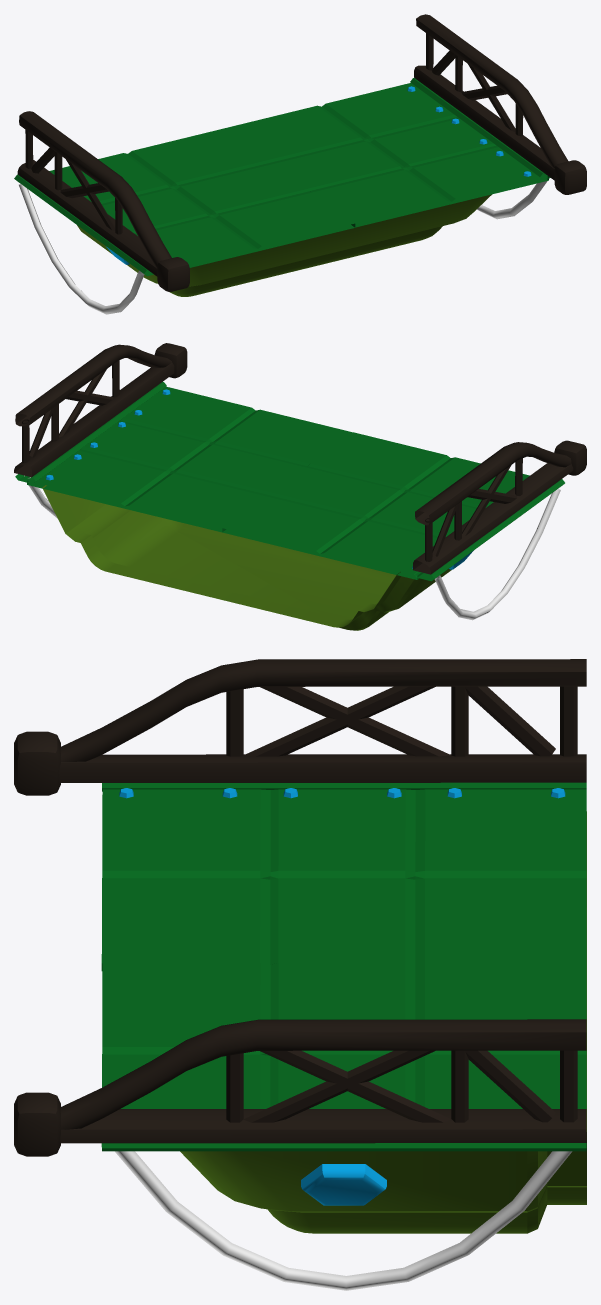
Rendered from Tile_Sol_debut.fbx.
3 views of the same model, one above another, from view 1: azimuth 30°, elevation 25°; view 2: azimuth 150°, elevation 25°; view 3: azimuth 270°, elevation 25° (orthographic). The views are drawn at different scales.
Visible parts, largest first — view 1: BezierCurve.005, Cube.098, Cube.128, BezierCurve.002, Cube.173; view 2: BezierCurve.005, Cube.128, Cube.098, BezierCurve.002, Cube.173; view 3: BezierCurve.005, Cube.098, Cube.128, BezierCurve.002, Cube.173, Cylinder.020, Cylinder.018.
Part boxes in pixels (<box>): BezierCurve.005: <box>14,78,550,276</box>; Cube.098: <box>17,14,568,276</box>; Cube.128: <box>77,194,491,296</box>; BezierCurve.002: <box>19,178,549,314</box>; Cube.173: <box>157,160,586,291</box>; BezierCurve.005: <box>15,382,564,581</box>; Cube.128: <box>42,485,451,630</box>; Cube.098: <box>14,344,573,574</box>; BezierCurve.002: <box>24,475,560,620</box>; Cube.173: <box>154,343,586,475</box>; BezierCurve.005: <box>101,782,586,1151</box>; Cube.098: <box>59,659,586,1143</box>; Cube.128: <box>180,811,586,1233</box>; BezierCurve.002: <box>115,1151,572,1290</box>; Cube.173: <box>14,731,60,1156</box>; Cylinder.020: <box>301,1164,386,1205</box>; Cylinder.018: <box>119,788,565,798</box>.
Bounding box in the file's own units: 568 × 193 × 358.
